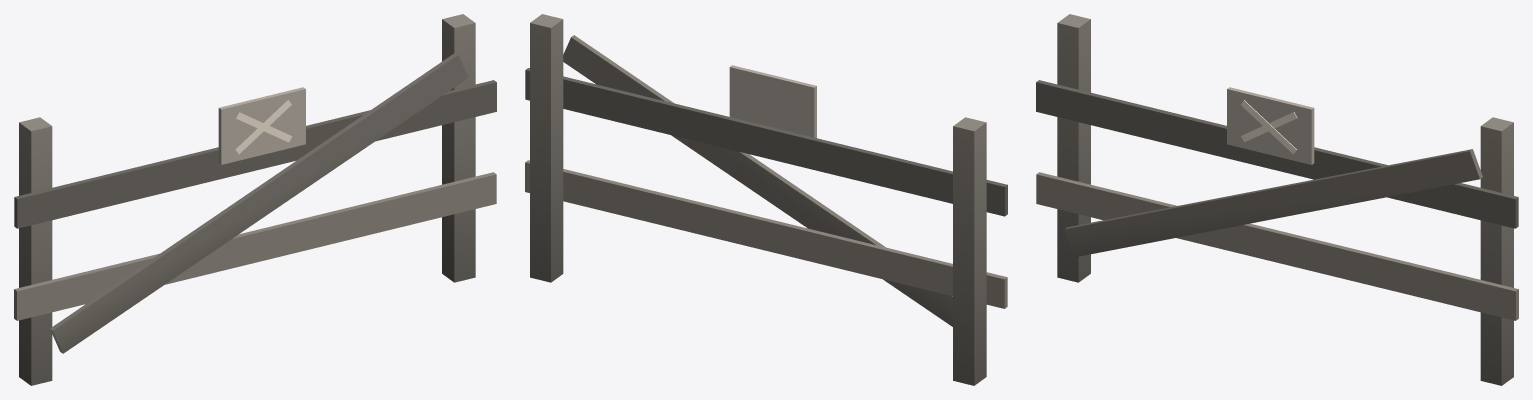
Rendered from SM_VKI_Prop_Mine_Barricade.fbx.
3 views of the same model, side by side, from view 1: azimuth 30°, elevation 25°; view 2: azimuth 150°, elevation 25°; view 3: azimuth 330°, elevation 25° (orthographic).
Visible parts, largest first — view 1: SM_VKI_Prop_Mine_Barricade.001; view 2: SM_VKI_Prop_Mine_Barricade.001; view 3: SM_VKI_Prop_Mine_Barricade.001.
Part boxes in pixels (x1,y1,x2,y2): SM_VKI_Prop_Mine_Barricade.001: [14, 14, 496, 385]; SM_VKI_Prop_Mine_Barricade.001: [525, 14, 1007, 385]; SM_VKI_Prop_Mine_Barricade.001: [1036, 14, 1518, 385].
Size of the model in its own units: 2.72 by 1.38 by 0.227.
